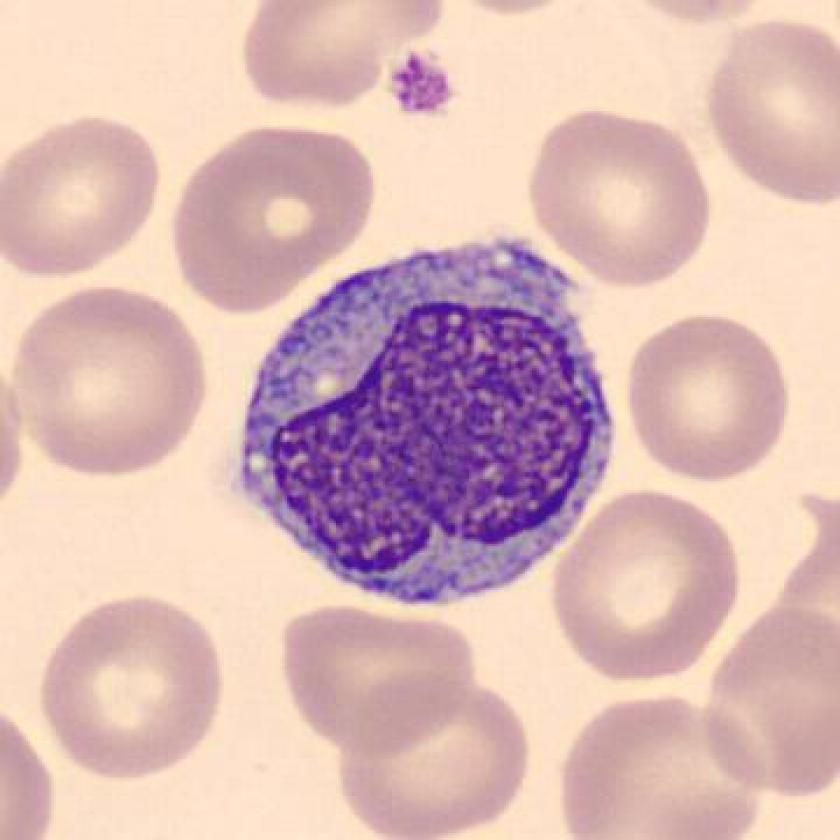monocyte: (209, 200, 643, 630)
